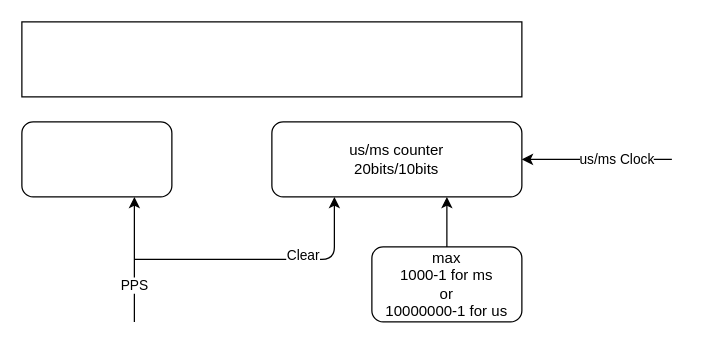
This 704x354 diagram has some shape labels left out. The centre of each missing label's shape, as x and y in pixels:
"Overall TimeStamp" goes at point 271,59.
"Second Counter 32bits" goes at point 96,159.
